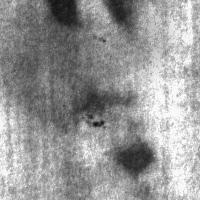patches: (0, 6, 114, 124), (93, 0, 169, 75), (107, 138, 153, 177), (45, 1, 78, 29), (102, 1, 134, 24)
